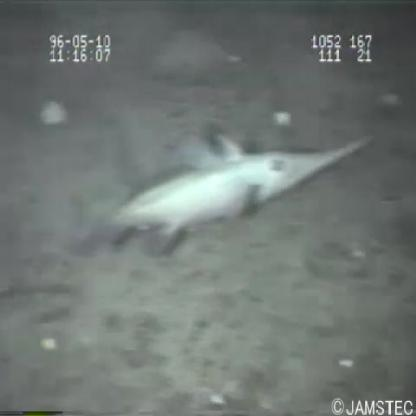Bio: (59, 127, 379, 272)
